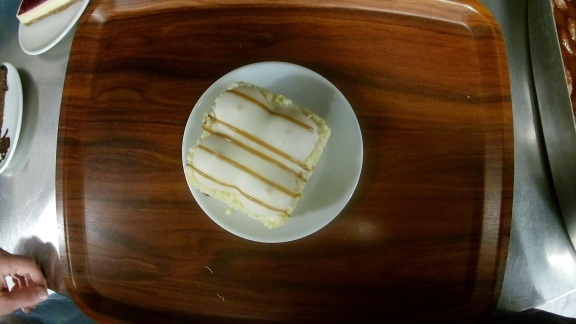beyazpasta: (182, 61, 364, 244)
